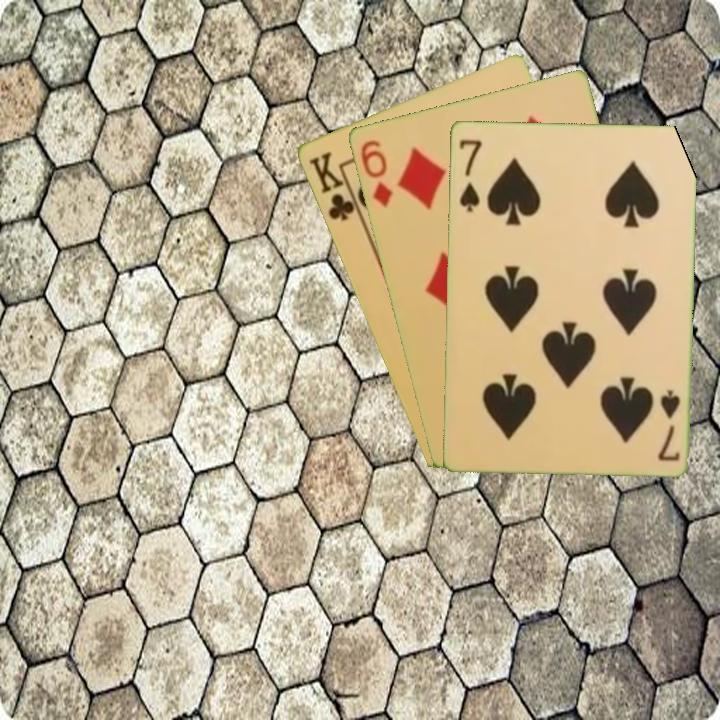6d: (356, 136, 395, 211)
7s: (455, 135, 484, 215), (654, 386, 682, 463)
Kc: (304, 147, 363, 224)
